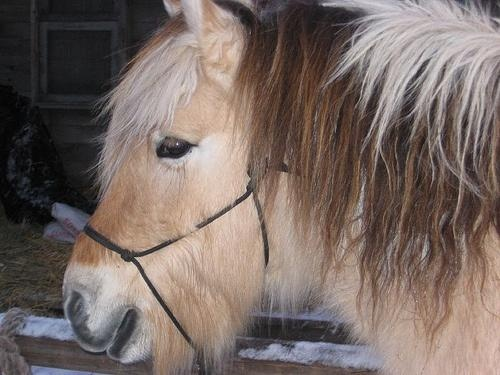horse: (63, 2, 500, 375)
